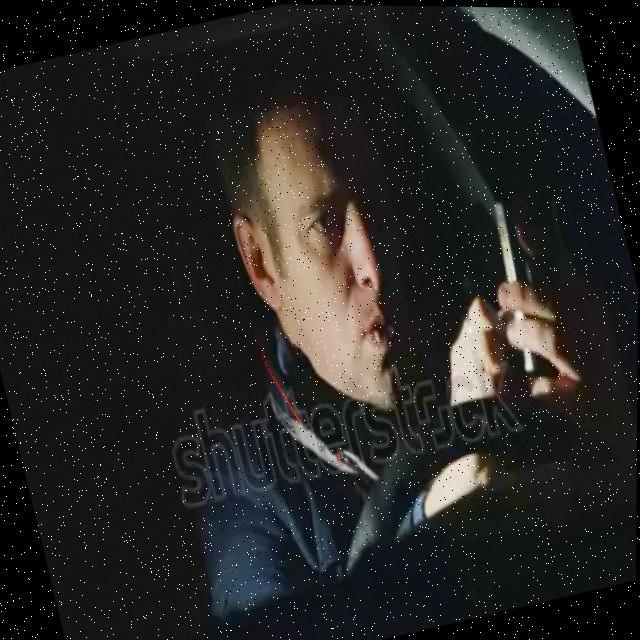PhoneCall: (482, 166, 588, 378)
